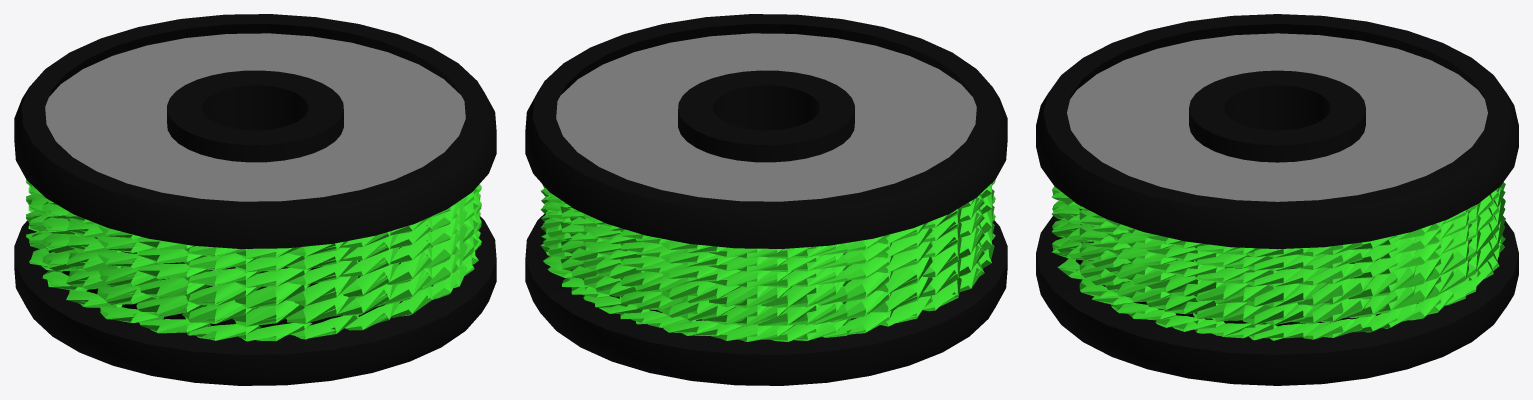
Rendered from RM_Plastic2.fbx.
3 views of the same model, side by side, from view 1: azimuth 30°, elevation 25°; view 2: azimuth 150°, elevation 25°; view 3: azimuth 270°, elevation 25° (orthographic).
Visible parts, largest first — view 1: PlasticVer2; view 2: PlasticVer2; view 3: PlasticVer2.
Boxes of the visible parts, bbox=[...] form: PlasticVer2: bbox=[14, 14, 496, 385]; PlasticVer2: bbox=[525, 14, 1007, 385]; PlasticVer2: bbox=[1036, 14, 1518, 385].
Size of the model in its own units: 0.6408 by 0.6408 by 0.2695.
